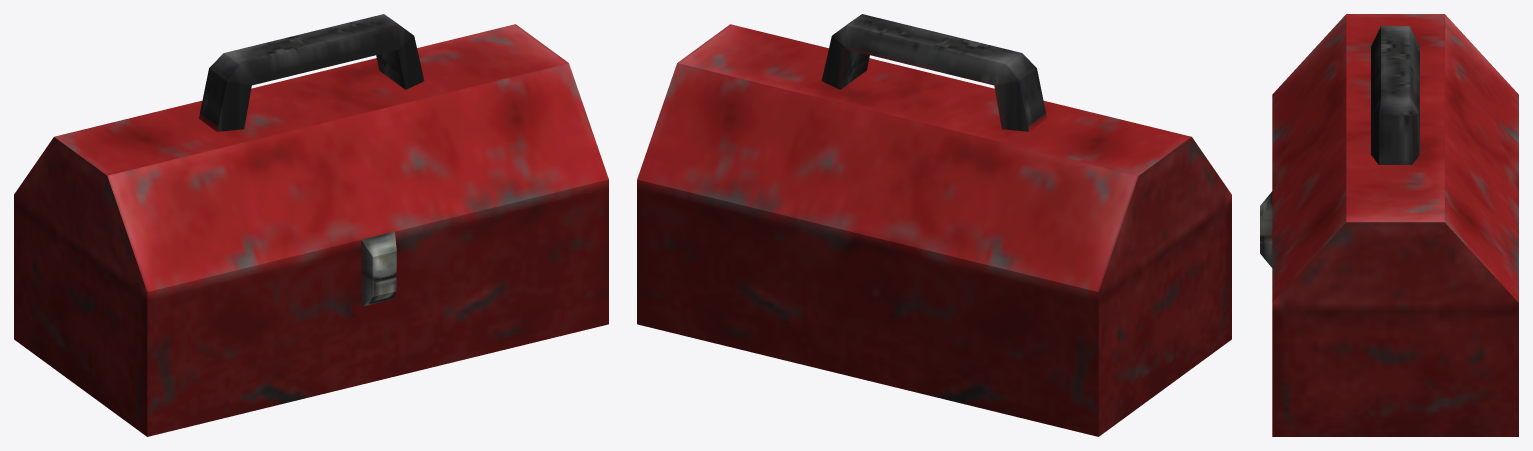
3 renders of one model, left to right at view 1: azimuth 30°, elevation 25°; view 2: azimuth 150°, elevation 25°; view 3: azimuth 270°, elevation 25°, orthographic. The views are drawn at different scales.
Visible parts, largest first — view 1: studio_toolbox_reference_mesh_0; view 2: studio_toolbox_reference_mesh_0; view 3: studio_toolbox_reference_mesh_0.
Part boxes in pixels (x1,y1,x2,y2): studio_toolbox_reference_mesh_0: (14, 14, 608, 436); studio_toolbox_reference_mesh_0: (637, 14, 1231, 436); studio_toolbox_reference_mesh_0: (1260, 14, 1518, 436).
Bounding box in the file's own units: 9.54 × 5.78 × 5.01.
